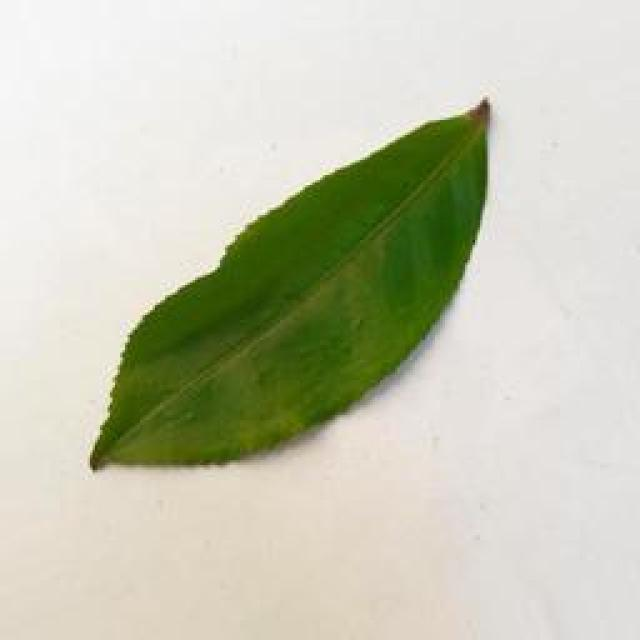Healthy: (89, 85, 492, 486)
